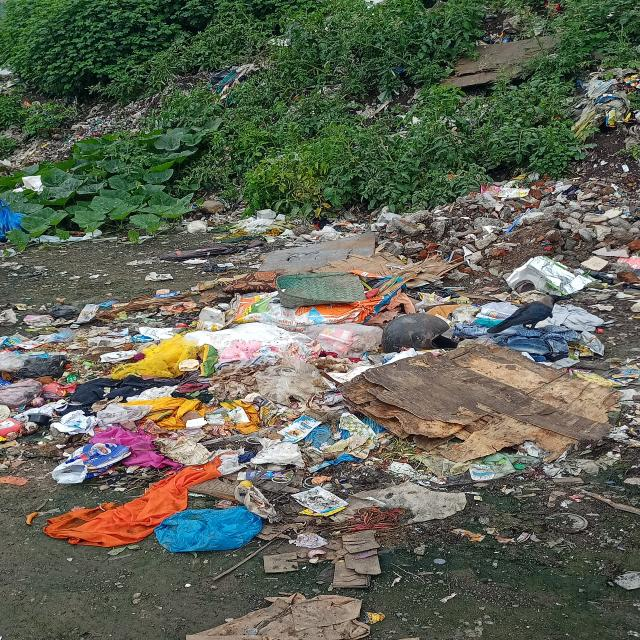garbage: (6, 271, 635, 552), (245, 184, 640, 274), (4, 102, 140, 162), (566, 61, 640, 151), (466, 27, 550, 92), (166, 63, 250, 109)
